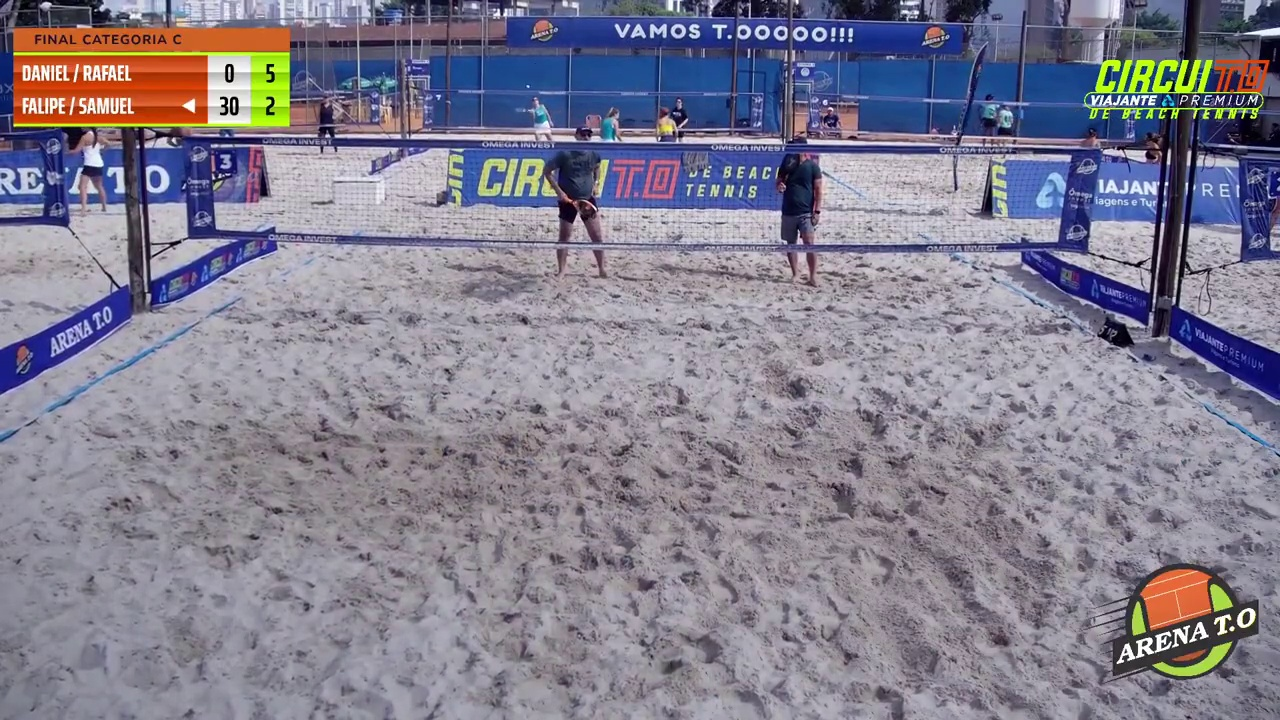court_line: (628, 0, 809, 369)
